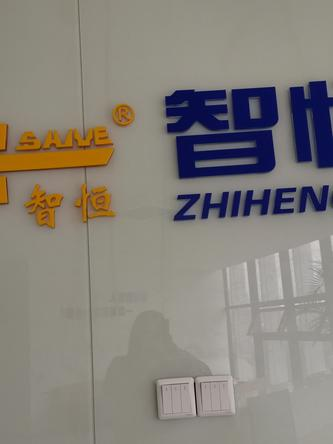switch: (168, 383, 184, 416), (199, 380, 214, 414), (208, 379, 223, 413), (217, 378, 232, 412), (160, 382, 174, 415), (179, 382, 193, 414)
